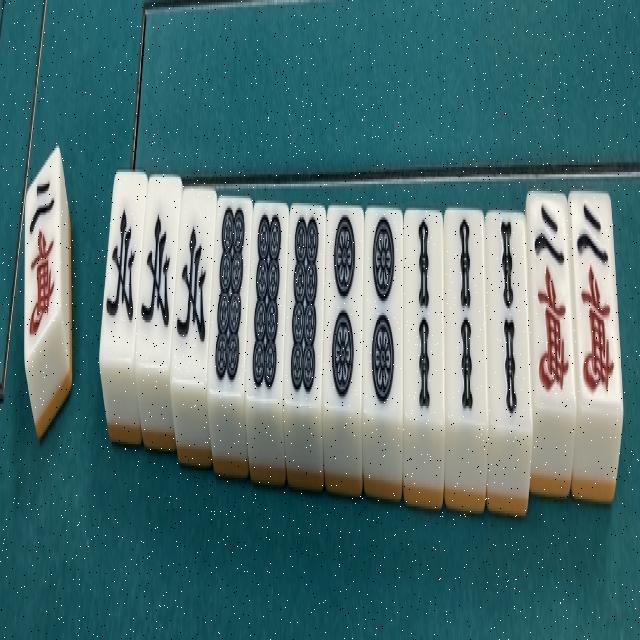bamboos_2: (485, 208, 531, 437), (443, 205, 489, 428), (404, 205, 444, 437)
characters_2: (569, 189, 626, 408), (527, 188, 577, 422)
circles_2: (362, 206, 405, 420), (322, 208, 365, 418)
circles_8: (206, 186, 253, 399), (284, 194, 327, 416), (244, 198, 289, 408)
north: (170, 182, 218, 394), (99, 164, 148, 360), (136, 175, 184, 372)
